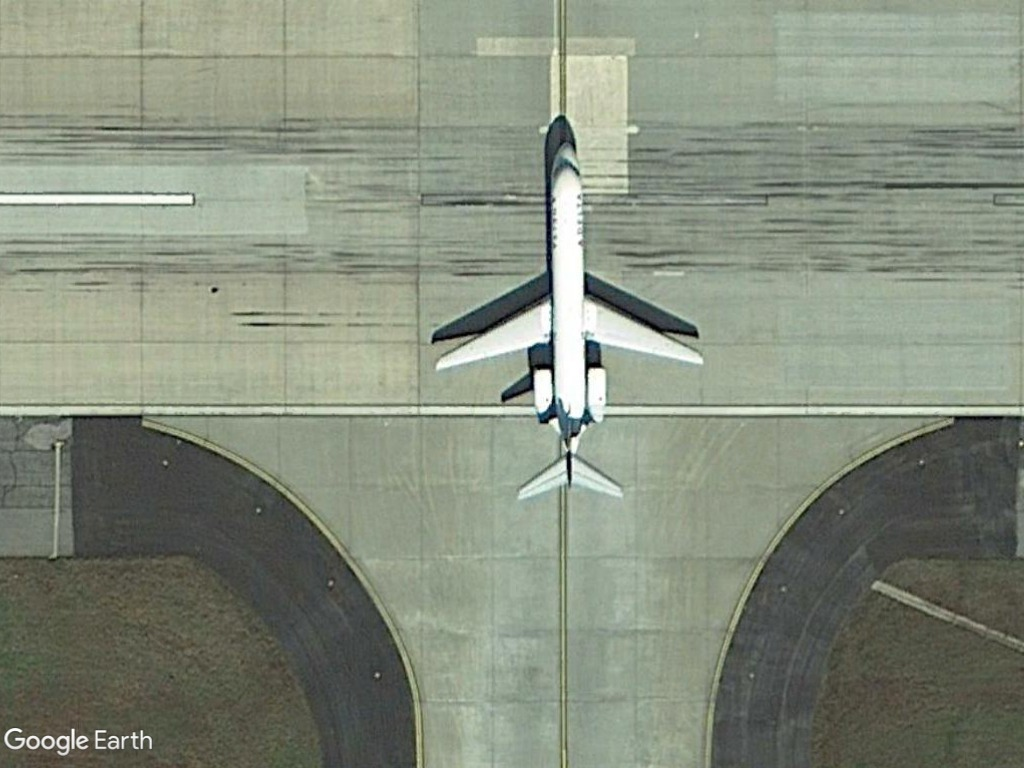chartered: (435, 138, 704, 508)
